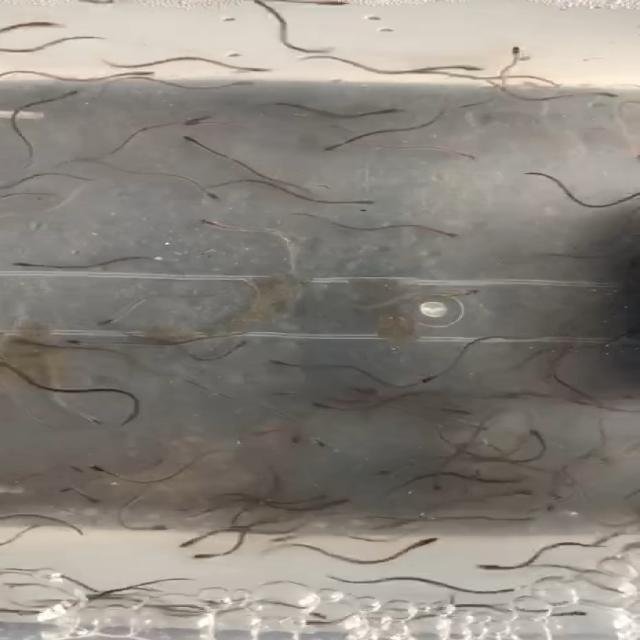active_glass_eel: (193, 213, 250, 240), (191, 542, 241, 568), (85, 407, 131, 434), (401, 534, 454, 556), (167, 109, 232, 126), (79, 455, 122, 479), (92, 309, 150, 326), (489, 553, 524, 579), (7, 258, 61, 273), (425, 474, 463, 495), (446, 58, 490, 76), (241, 58, 281, 77), (424, 218, 462, 238), (505, 164, 538, 187), (0, 170, 41, 188), (58, 484, 109, 498), (316, 136, 354, 154), (437, 144, 475, 162), (228, 338, 262, 358), (182, 534, 215, 554), (193, 179, 223, 199), (315, 438, 345, 458), (276, 389, 313, 405), (56, 336, 96, 350), (102, 66, 144, 79), (264, 358, 306, 371), (26, 14, 57, 31), (570, 401, 610, 414), (131, 523, 163, 539), (358, 107, 389, 123), (507, 42, 531, 62), (354, 382, 388, 396), (499, 475, 532, 488), (312, 400, 354, 410), (247, 426, 285, 437), (177, 134, 206, 148), (343, 194, 372, 207), (421, 370, 445, 385), (279, 437, 295, 449)
